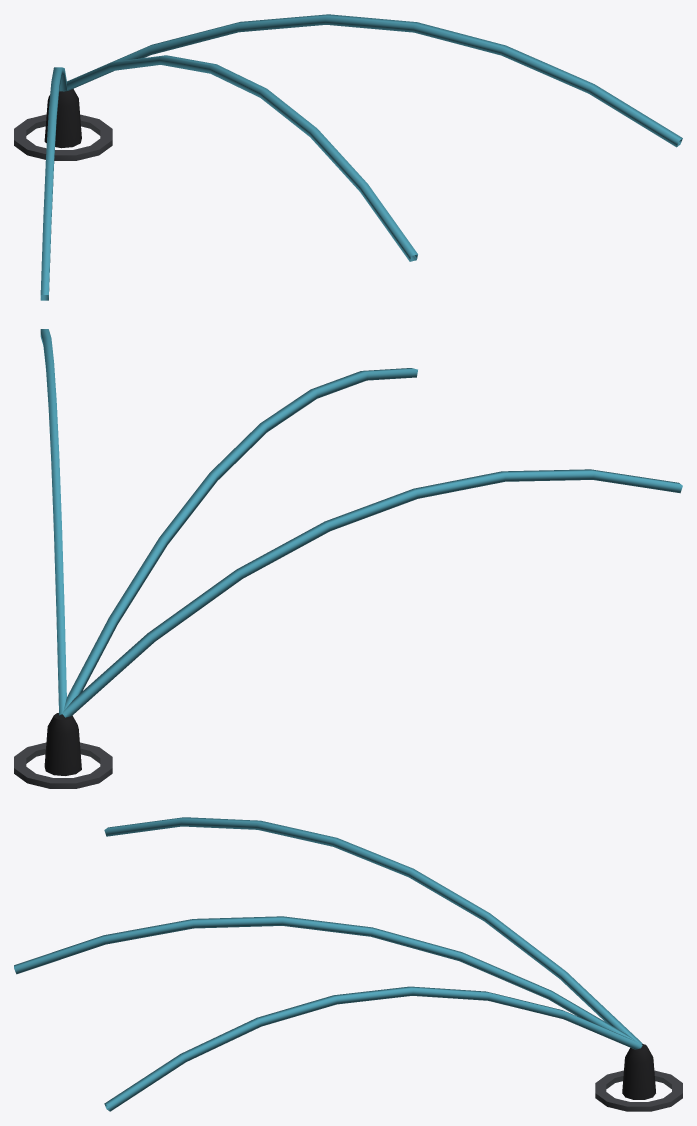
Rendered from SprinklerFL.fbx.
The picture shows the model from 3 angles, top to bottom: view 1: azimuth 30°, elevation 25°; view 2: azimuth 150°, elevation 25°; view 3: azimuth 270°, elevation 25°; orthographic projection. The views are drawn at different scales.
Parts seen in each view (by area): view 1: SprinklerFL; view 2: SprinklerFL; view 3: SprinklerFL.
Boxes of the visible parts, bbox=[...] form: SprinklerFL: bbox=[14, 14, 682, 300]; SprinklerFL: bbox=[14, 329, 682, 788]; SprinklerFL: bbox=[14, 817, 682, 1111].
Bounding box in the file's own units: 2.33 × 0.6825 × 2.36.
